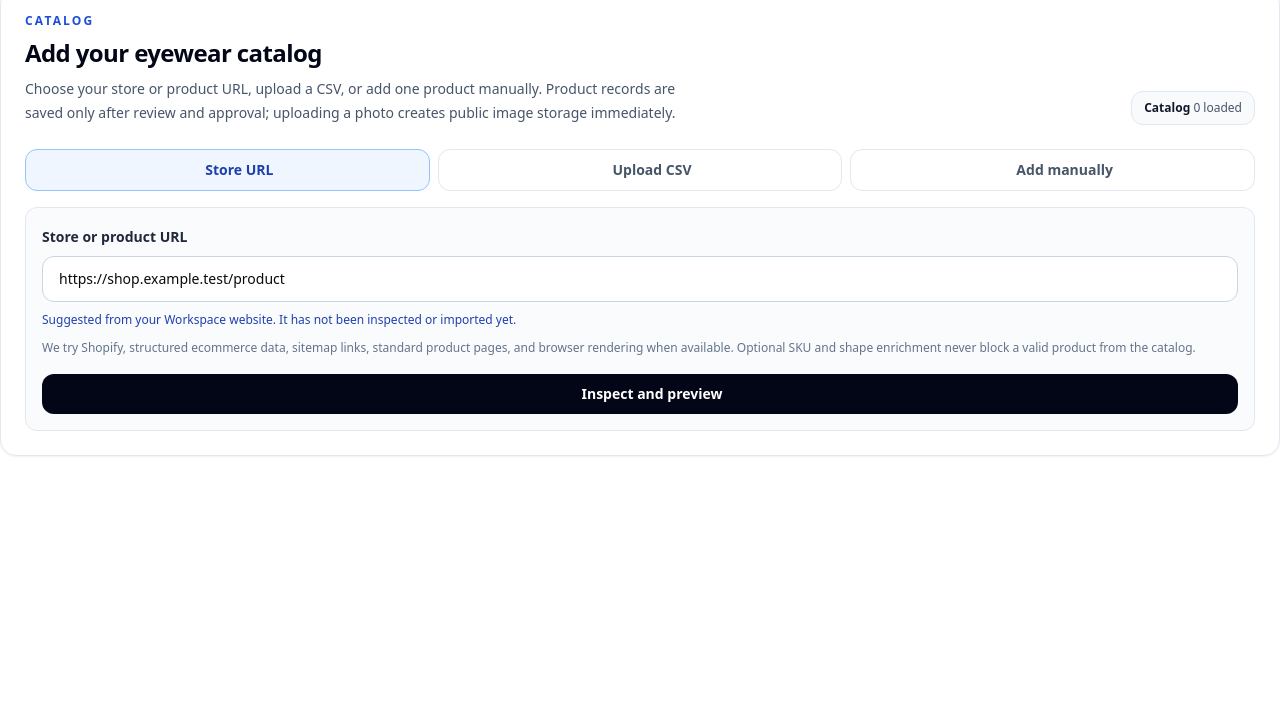
Merchant First Value source choice and recovery › keeps Catalog presence after approved update-only import with initialTotal=0
Click the button "Inspect and preview".
click(640, 394)  # box x1=42 y1=374 x2=1238 y2=414
(page scrolled)
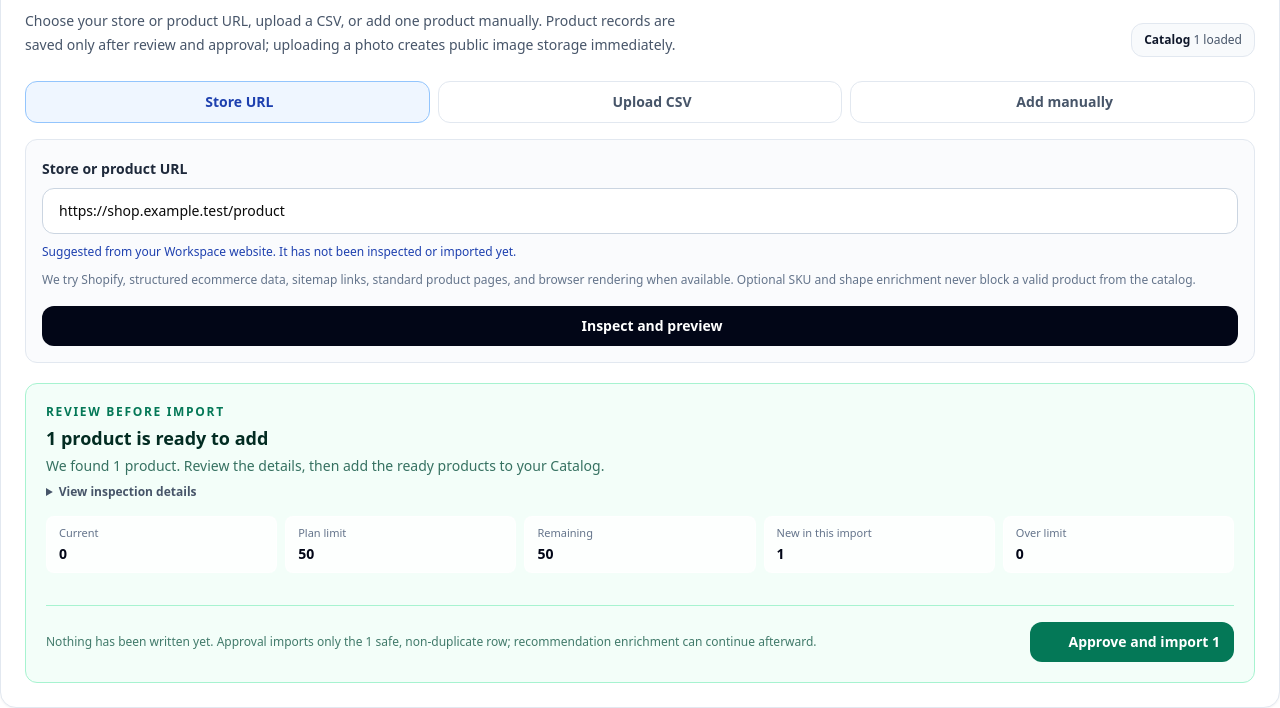
Click the button "Approve and import 1".
click(1132, 642)  # box x1=1030 y1=622 x2=1234 y2=662
(page scrolled)
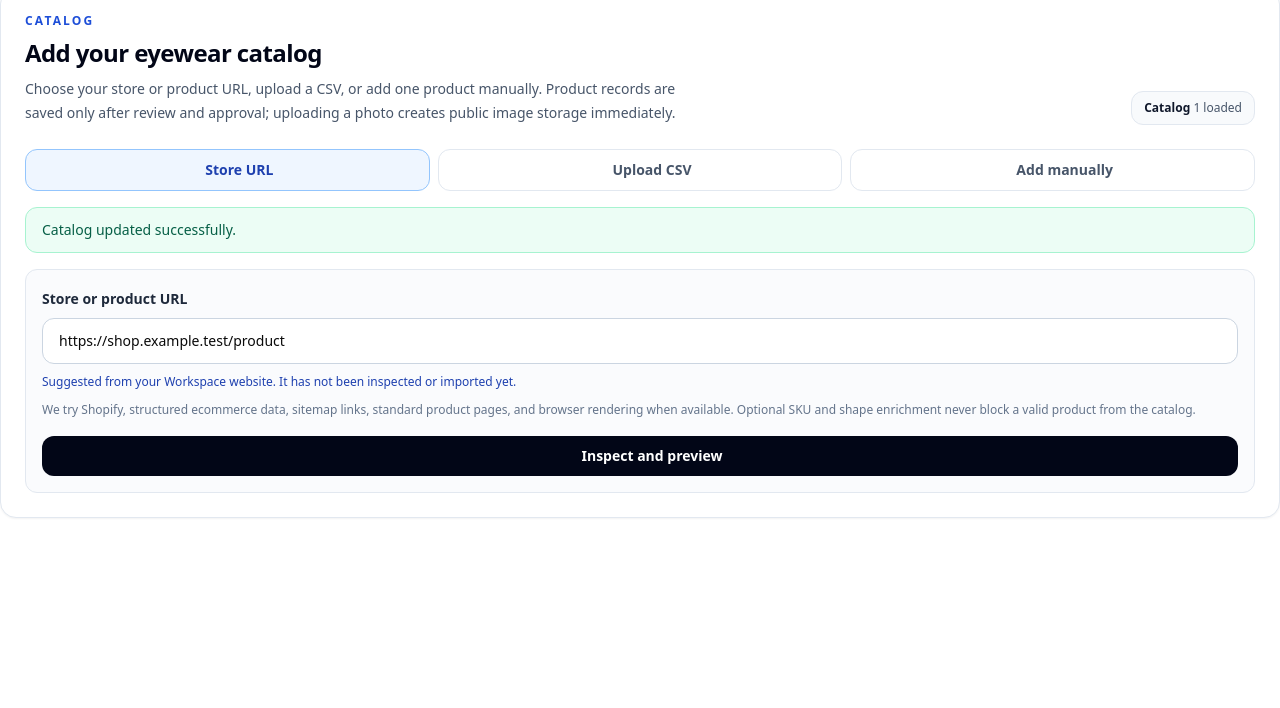
Now the text "Catalog updated successfully." is shown, box x1=42 y1=220 x2=236 y2=240
